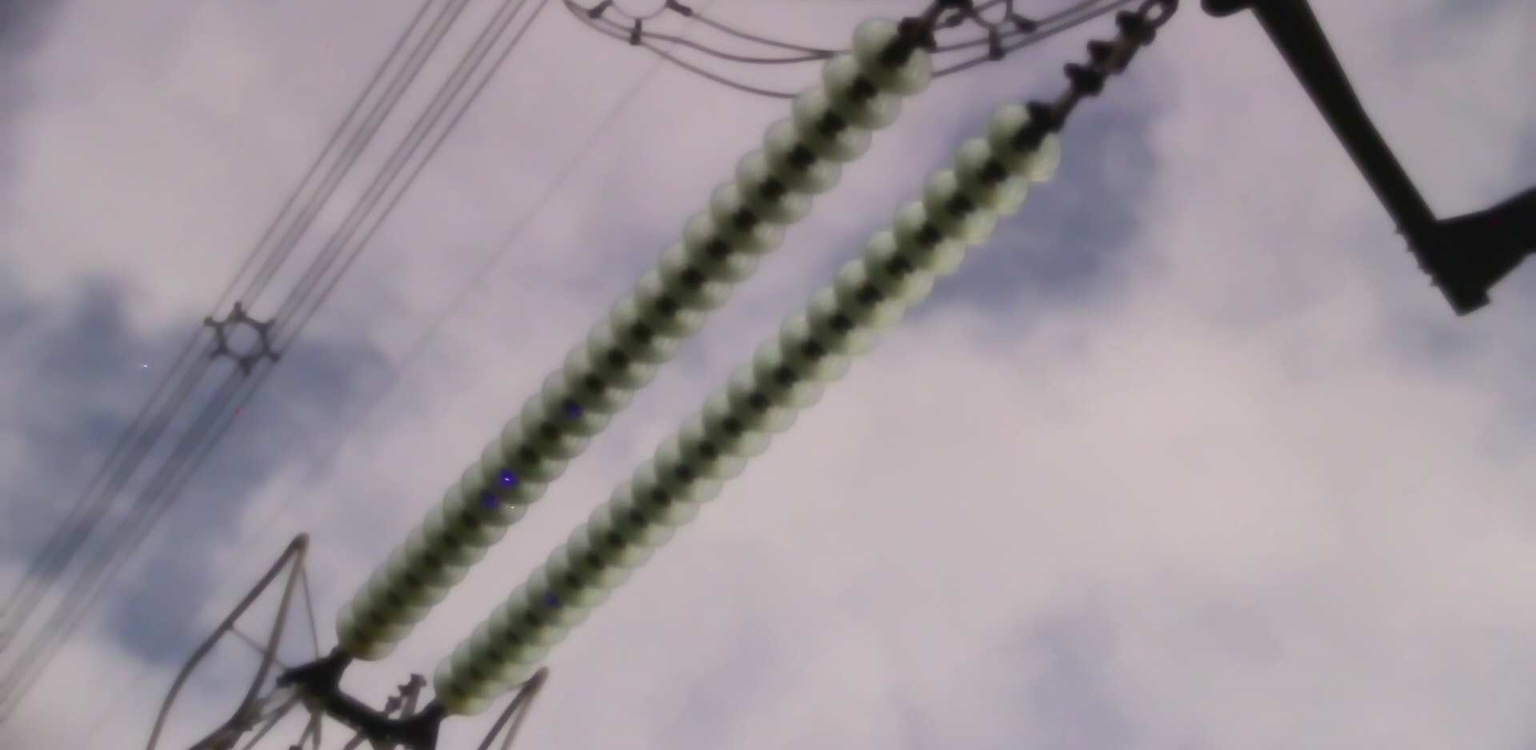绝缘子污闪: (497, 469, 518, 488), (542, 590, 558, 608), (482, 495, 502, 509), (568, 405, 584, 417)
